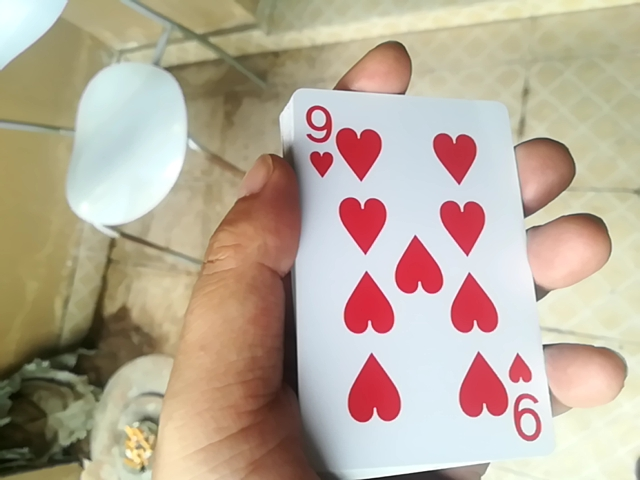hx 9: (292, 95, 543, 476)
